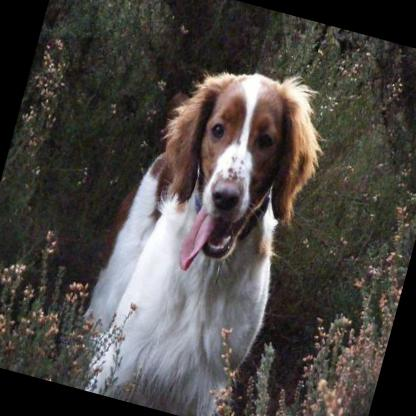Welsh_springer_spaniel: (64, 41, 338, 416)
